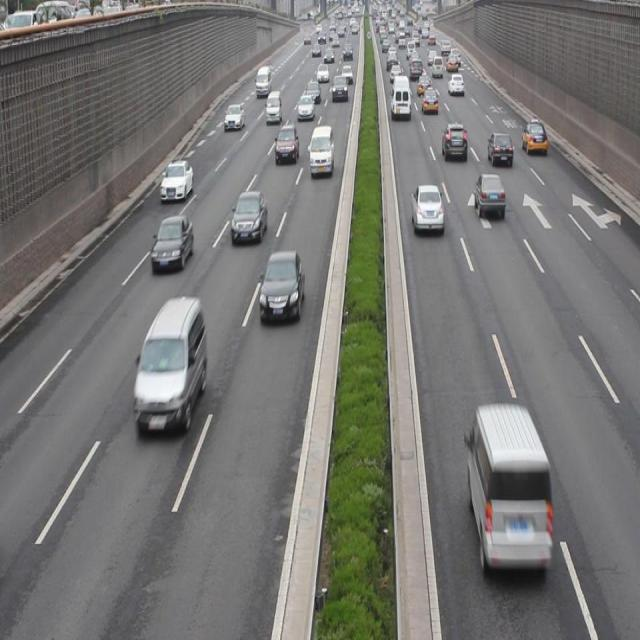car: (134, 296, 206, 434), (258, 250, 303, 326), (152, 217, 194, 270), (230, 188, 266, 242), (410, 183, 443, 235), (159, 157, 194, 200), (472, 173, 504, 215), (274, 123, 300, 166), (485, 132, 512, 165), (441, 123, 466, 158), (519, 121, 545, 152)
truck: (464, 405, 551, 575), (308, 126, 334, 176)
